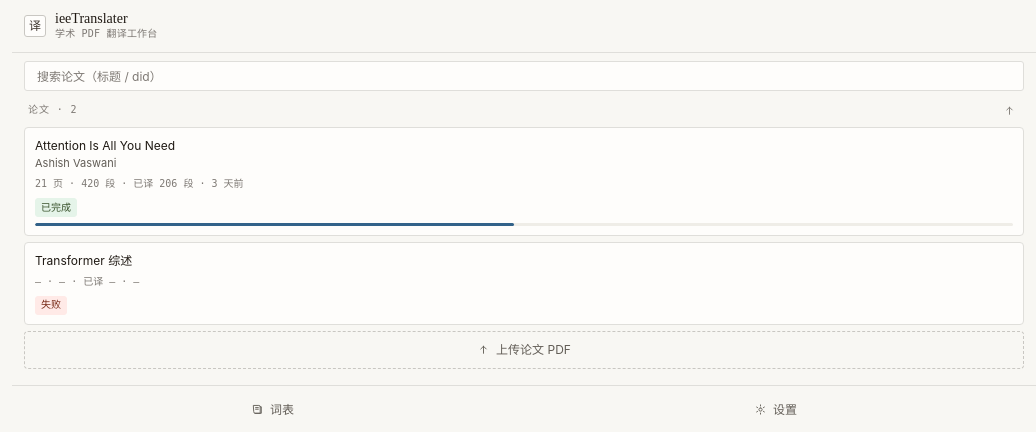
it: PaperNav 右键删除（DELETE /documents/{did}） › 右键弹菜单；确认后发 DELETE 并刷新列表
Expected: the text "Attention Is All You Need" is shown, [35,138,175,153]
Right-click the button with aria-label "Attention Is All You Need" at (105, 146), box [24,127,1024,236]
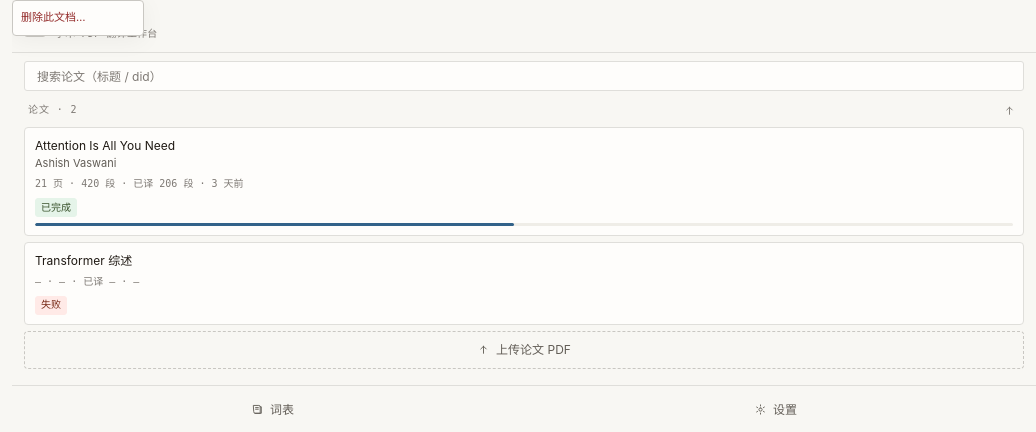
Click the menu item "删除此文档…" at (78, 18), box [13,5,143,31]
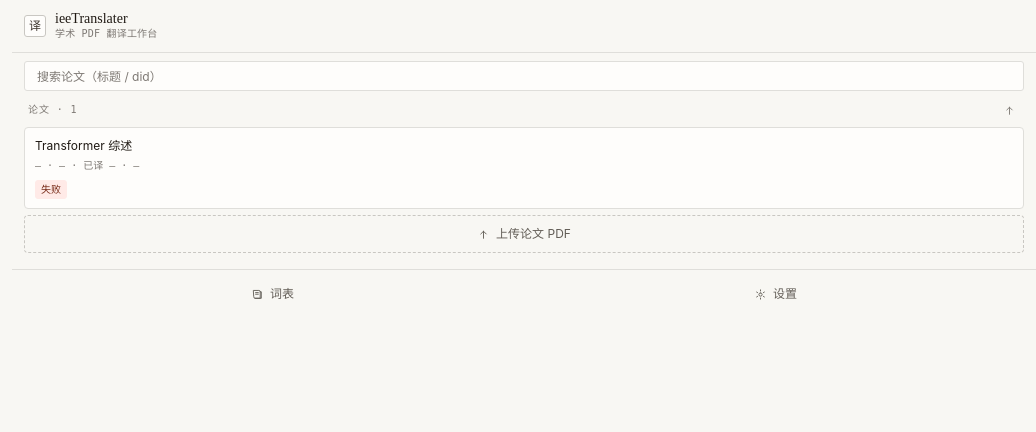
Expected: the text "Transformer 综述" is shown, [35,138,132,153]
Expected: the button "Attention Is All You Need" is gone
